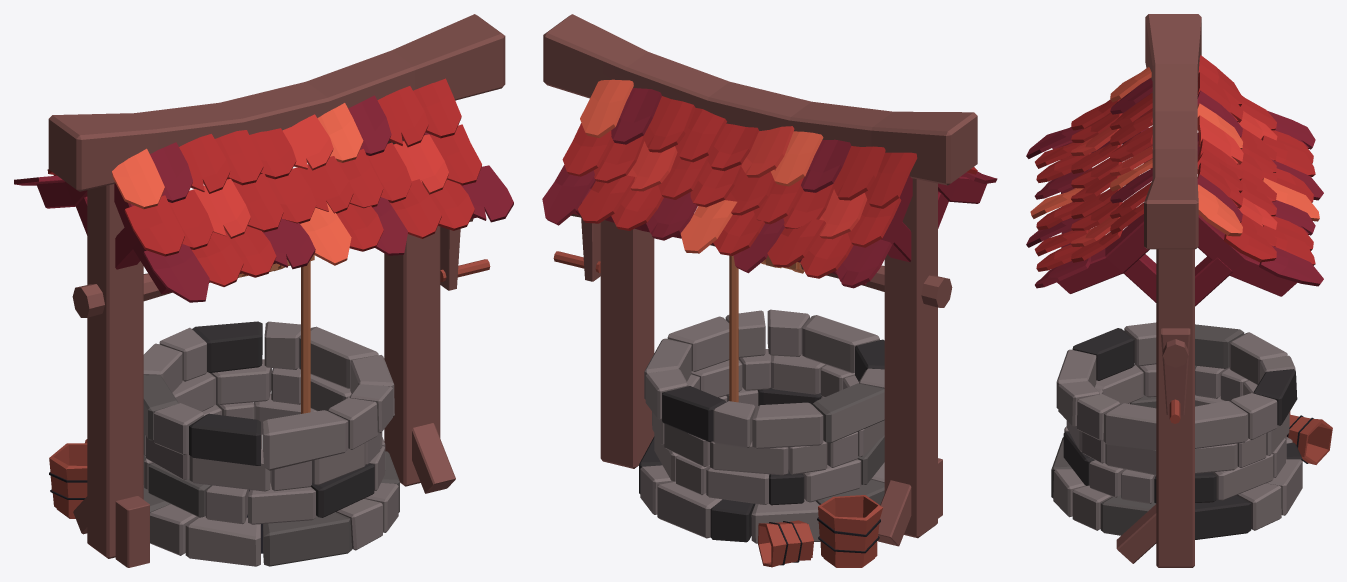
The model's file is poço.fbx.
The picture shows the model from 3 angles, left to right: view 1: azimuth 30°, elevation 25°; view 2: azimuth 150°, elevation 25°; view 3: azimuth 270°, elevation 25°; orthographic projection. The views are drawn at different scales.
Visible parts, largest first — view 1: Plane.004, Cylinder.031; view 2: Plane.004, Cylinder.031, Cylinder.033; view 3: Plane.004, Cylinder.033.
Boxes of the visible parts, <box> form: Plane.004: <box>14,14,513,567</box>; Cylinder.031: <box>49,443,87,518</box>; Plane.004: <box>542,14,997,546</box>; Cylinder.031: <box>817,495,882,567</box>; Cylinder.033: <box>758,520,813,567</box>; Plane.004: <box>1026,14,1323,567</box>; Cylinder.033: <box>1286,414,1332,464</box>.
Bounding box in the file's own units: 2.45 × 2.41 × 1.69.
